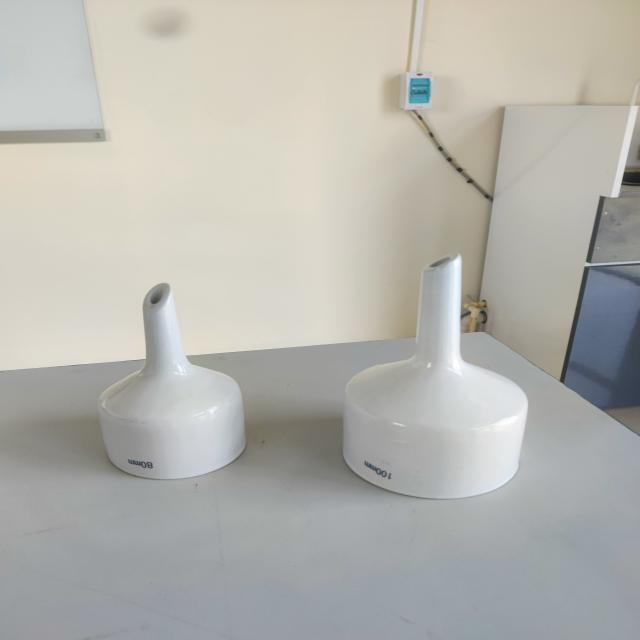Buchner_Funnel: (312, 239, 563, 524), (64, 240, 274, 495)
